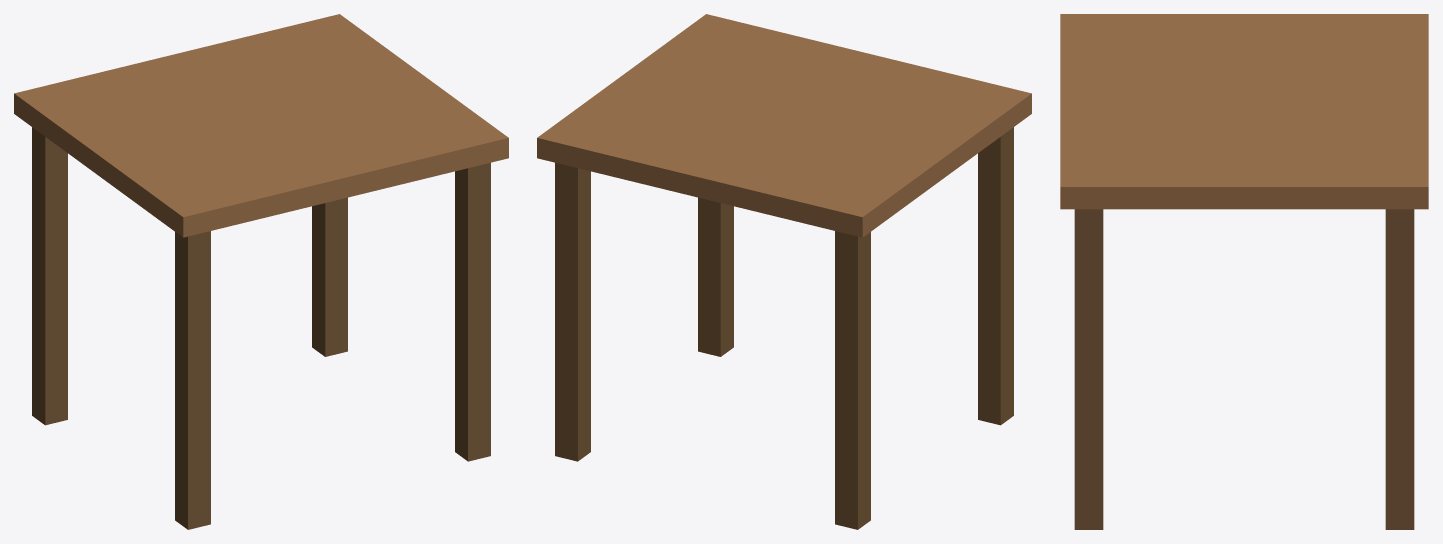
Rendered from table.gltf.
The picture shows the model from 3 angles, left to right: view 1: azimuth 30°, elevation 25°; view 2: azimuth 150°, elevation 25°; view 3: azimuth 270°, elevation 25°; orthographic projection. The views are drawn at different scales.
Visible parts, largest first — view 1: top, leg (×4); view 2: top, leg (×4); view 3: top, leg (×2).
Part boxes in pixels (x1=…): top: x1=14, y1=14, x2=508, y2=237; leg (×4): x1=32, y1=127, x2=490, y2=529; top: x1=537, y1=14, x2=1031, y2=237; leg (×4): x1=555, y1=127, x2=1013, y2=529; top: x1=1060, y1=14, x2=1428, y2=209; leg (×2): x1=1074, y1=209, x2=1414, y2=529.
Bounding box in the file's own units: 1 × 0.94 × 0.9.
